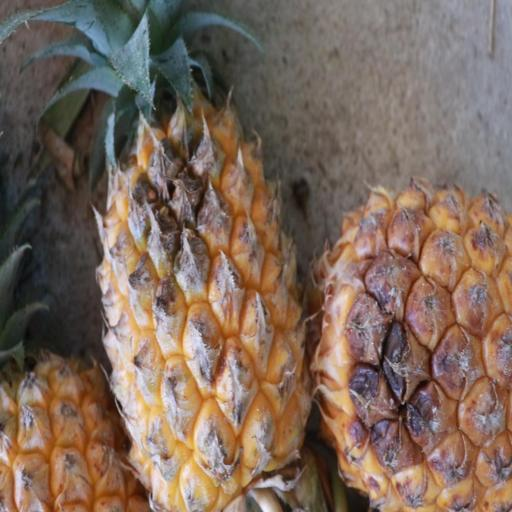Pineapple - v8 v1: (93, 2, 314, 510), (309, 191, 511, 512)
